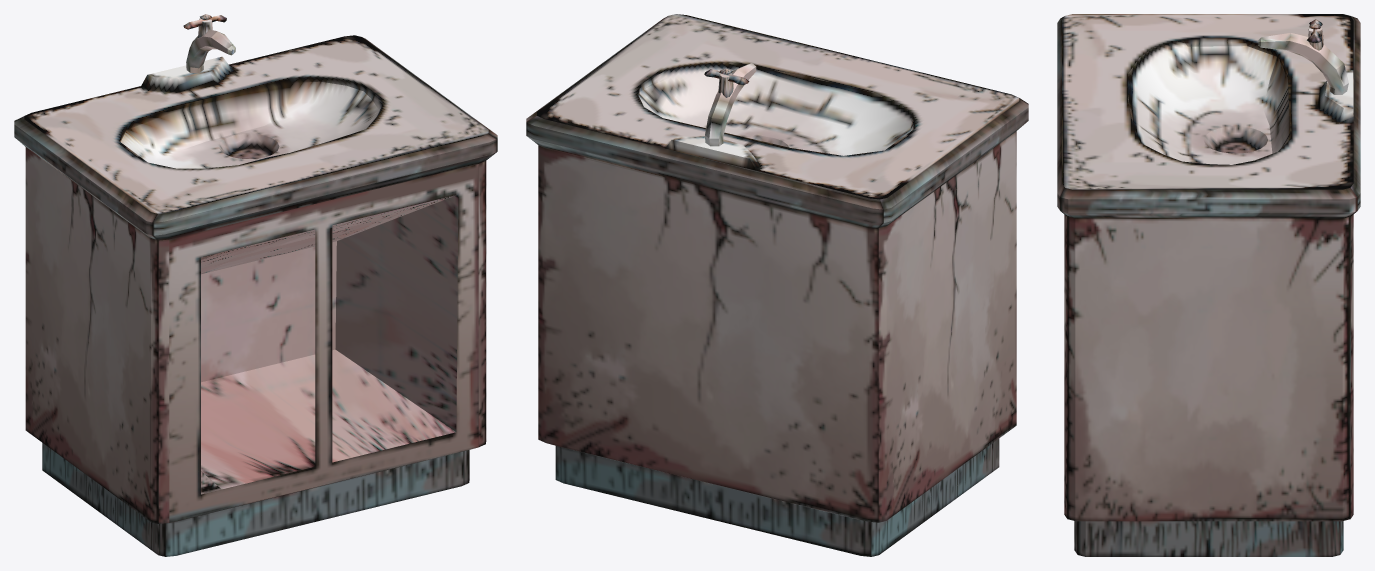
Rendered from Sink.fbx.
3 views of the same model, side by side, from view 1: azimuth 30°, elevation 25°; view 2: azimuth 150°, elevation 25°; view 3: azimuth 270°, elevation 25° (orthographic). The views are drawn at different scales.
Visible parts, largest first — view 1: Sink; view 2: Sink; view 3: Sink.
Part boxes in pixels (x1=…): Sink: x1=14, y1=14, x2=497, y2=556; Sink: x1=526, y1=14, x2=1028, y2=556; Sink: x1=1057, y1=14, x2=1360, y2=556.
Size of the model in its own units: 96.14 by 111 by 67.47.
